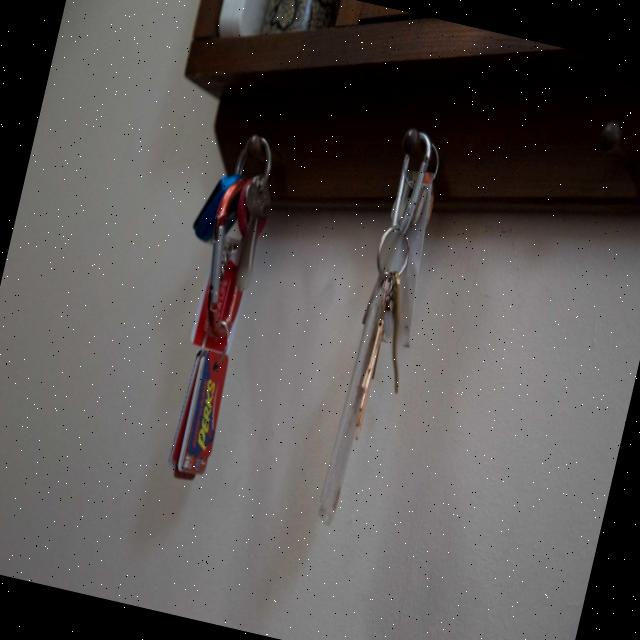Frontdoor keys: (220, 168, 290, 298)
